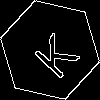K: (25, 25, 81, 81)
